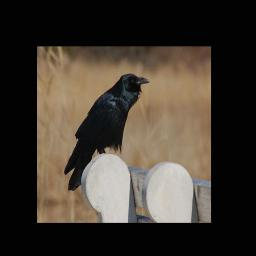Crow: (63, 73, 150, 192)
